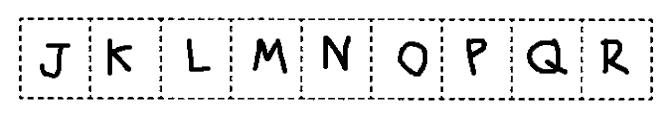J: (34, 36, 77, 83)
K: (102, 32, 140, 82)
L: (177, 32, 218, 81)
M: (246, 34, 292, 80)
N: (313, 29, 360, 78)
O: (394, 36, 434, 82)
P: (458, 33, 493, 80)
Q: (521, 33, 574, 84)
R: (593, 34, 636, 78)
